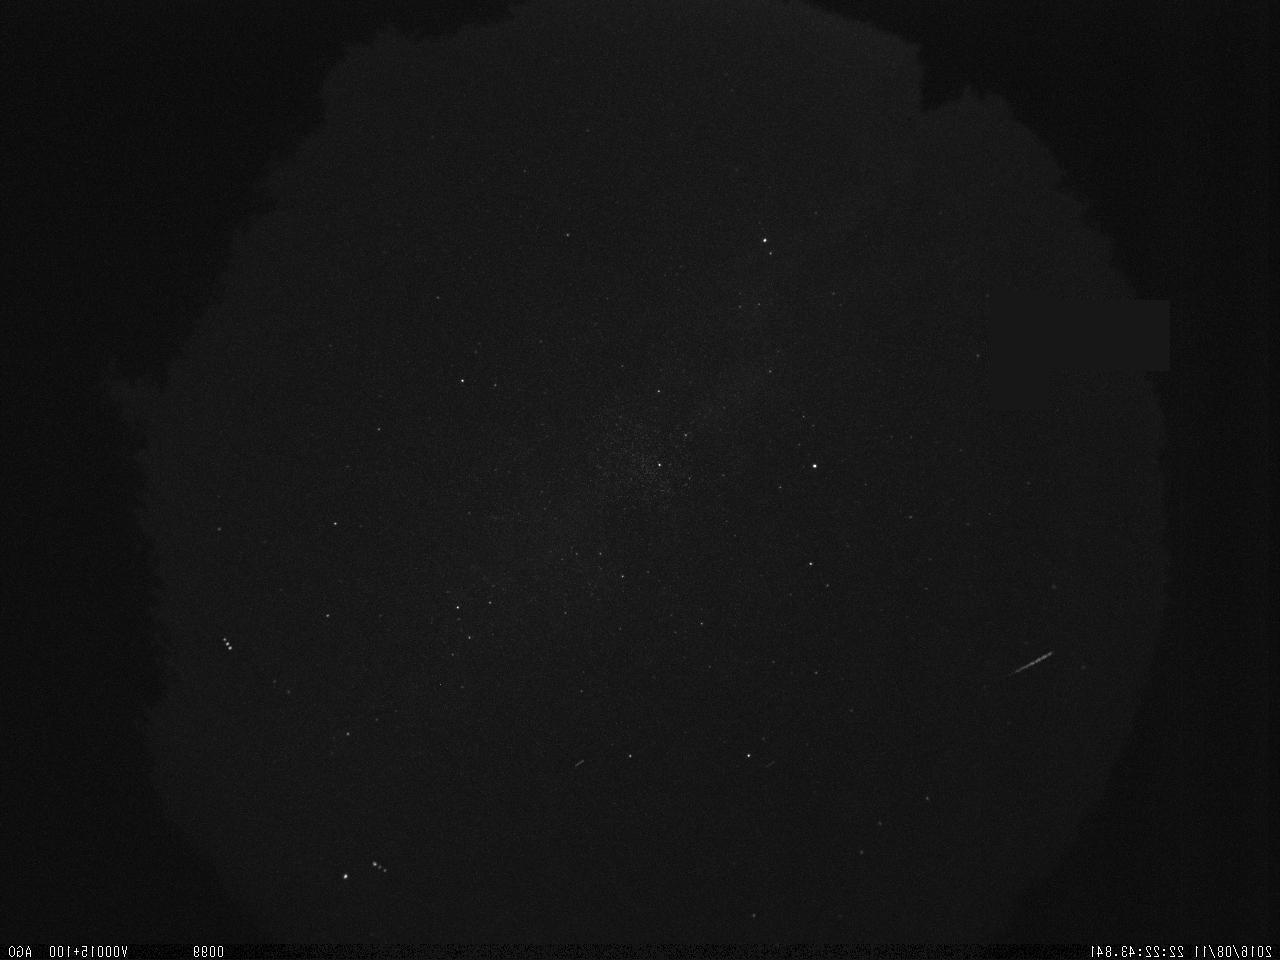satelite: (988, 641, 1061, 691)
